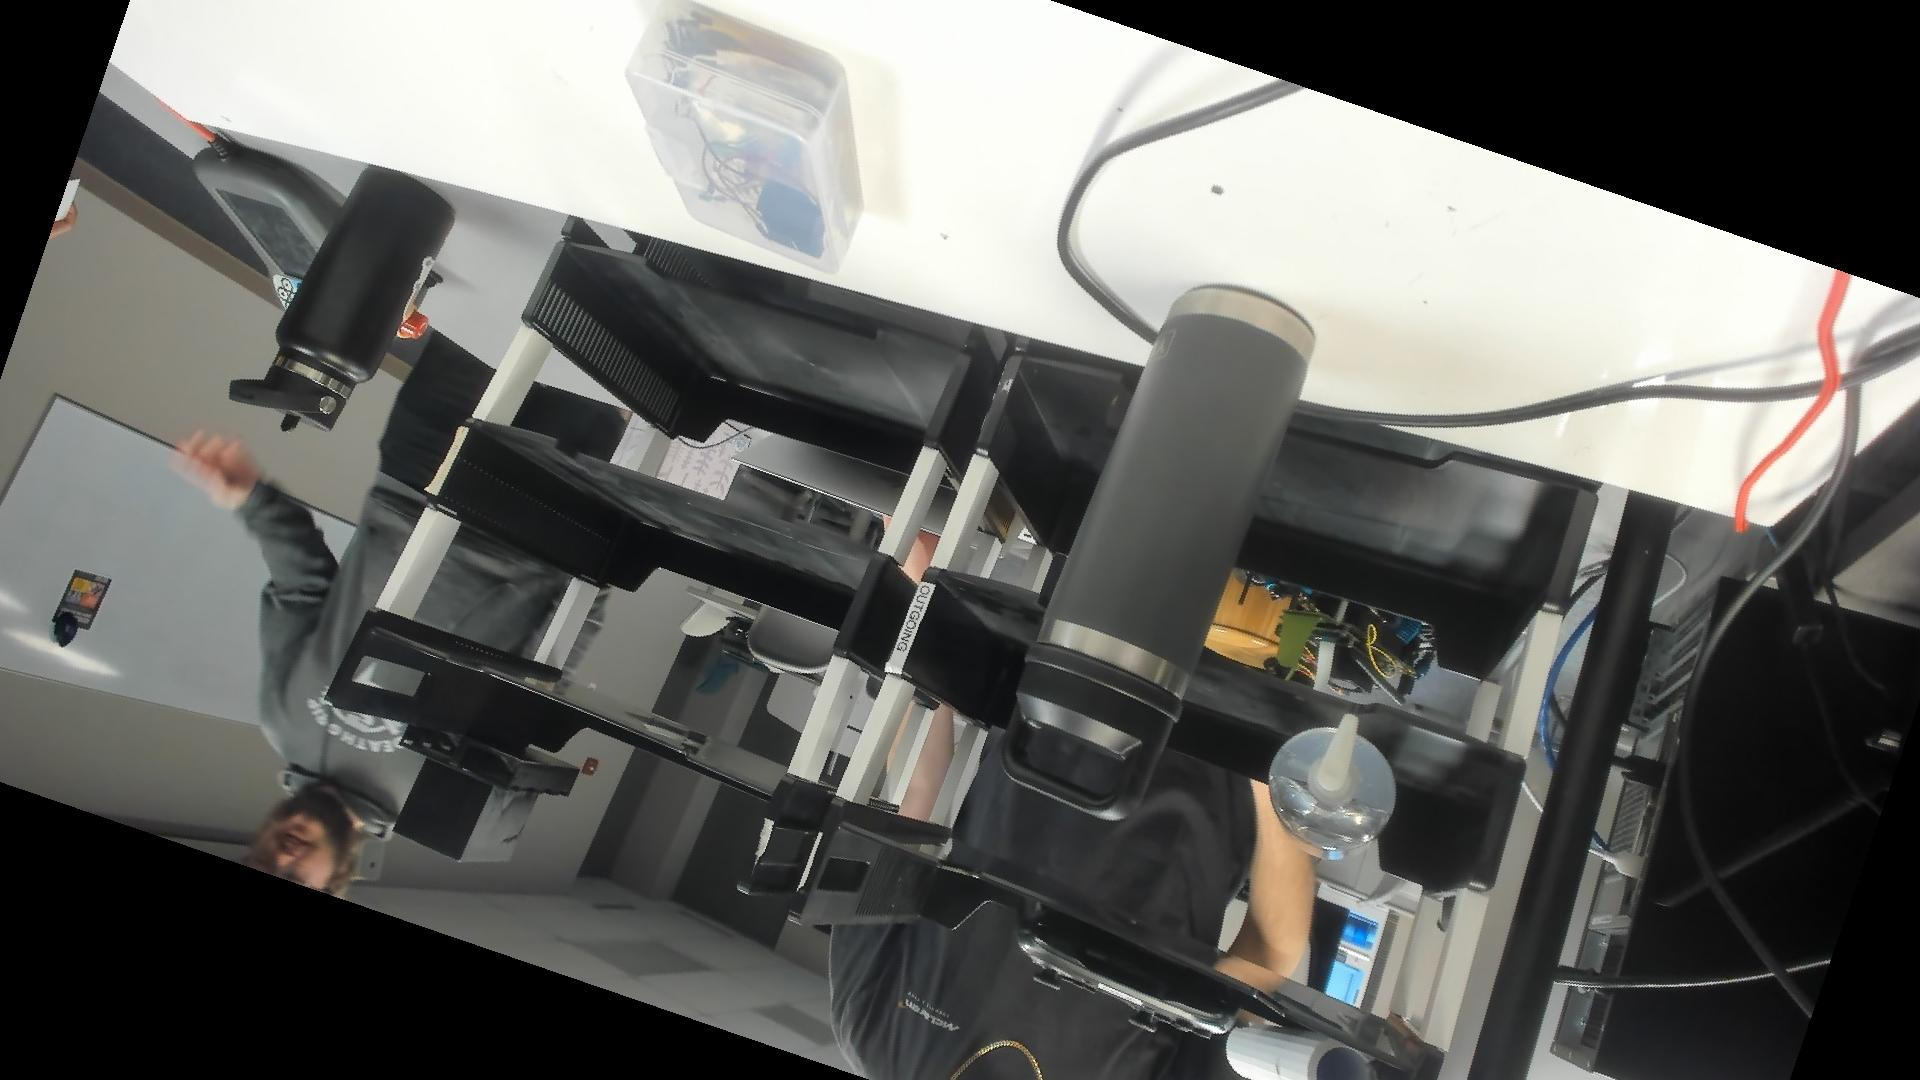black pallet: (378, 720, 583, 866)
